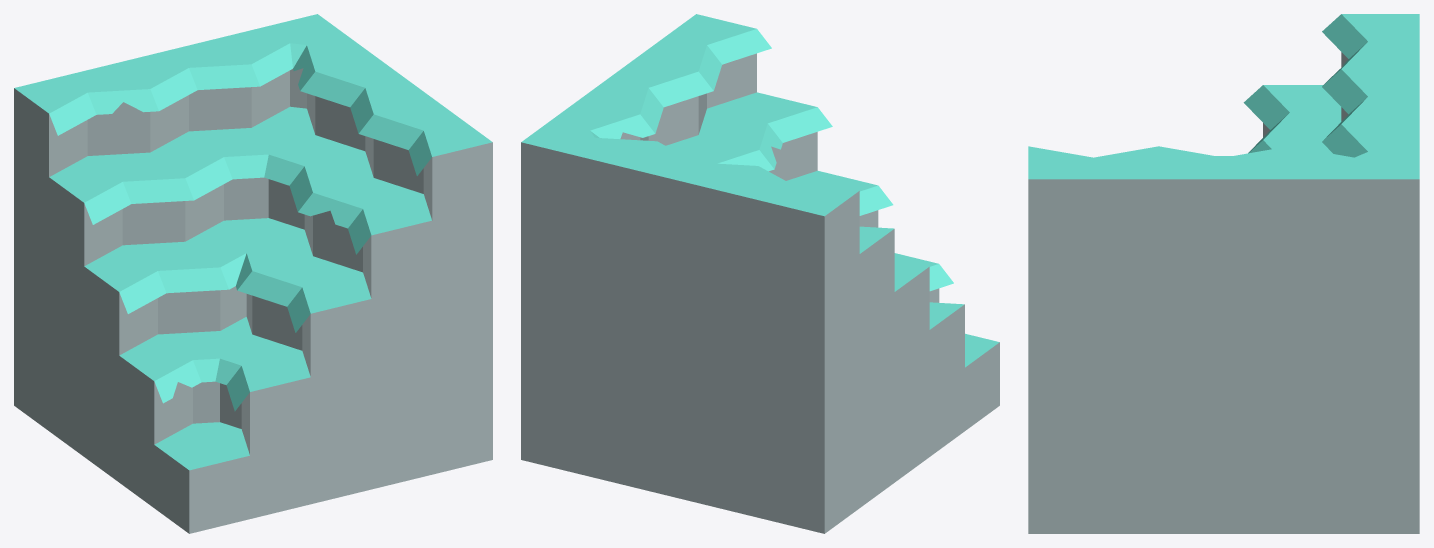
3 views of the same model, side by side, from view 1: azimuth 30°, elevation 25°; view 2: azimuth 150°, elevation 25°; view 3: azimuth 270°, elevation 25° (orthographic). The views are drawn at different scales.
Visible parts, largest first — view 1: cliff_stepsCornerInner_stone; view 2: cliff_stepsCornerInner_stone; view 3: cliff_stepsCornerInner_stone.
Part boxes in pixels (bbox=[...]): cliff_stepsCornerInner_stone: bbox=[14, 14, 492, 533]; cliff_stepsCornerInner_stone: bbox=[521, 14, 999, 533]; cliff_stepsCornerInner_stone: bbox=[1028, 14, 1419, 533].
Bounding box in the file's own units: 1 × 1 × 1.
